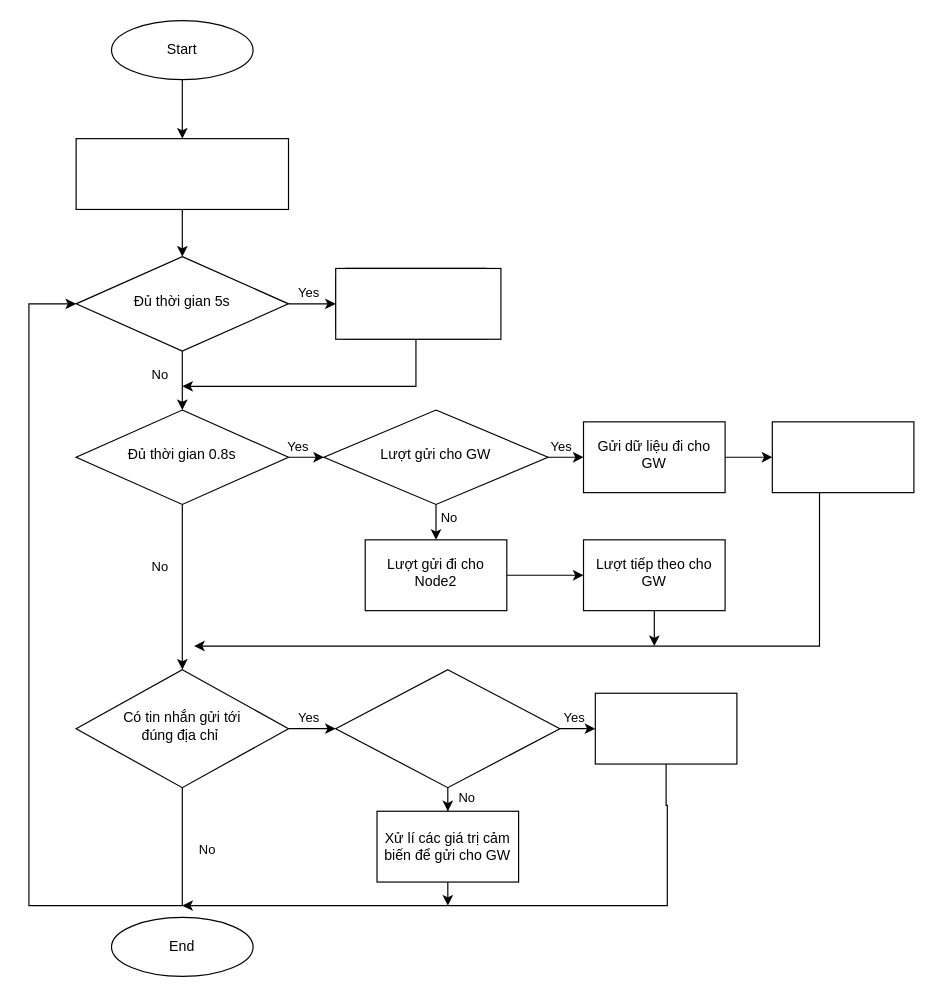
The diagram is 935 pixels wide and 997 high, and some of its shapes have lost their labels. The shapes that lost their labels are listed below. From the top down, each one's centre as x and y in pixels, then its label:
the point at 182,173: Khởi tạo thông số (LoRa,AHT20)
the point at 418,303: Đọc cảm biến nhiệt độ - độ ẩm
the point at 842,457: Lượt tiếp theo cho Node2
the point at 447,728: Tin nhắn được gửi từ GW
the point at 665,728: Xử lí các lệnh gửi đến Xử lí dữ liệu gửi cho Node2
